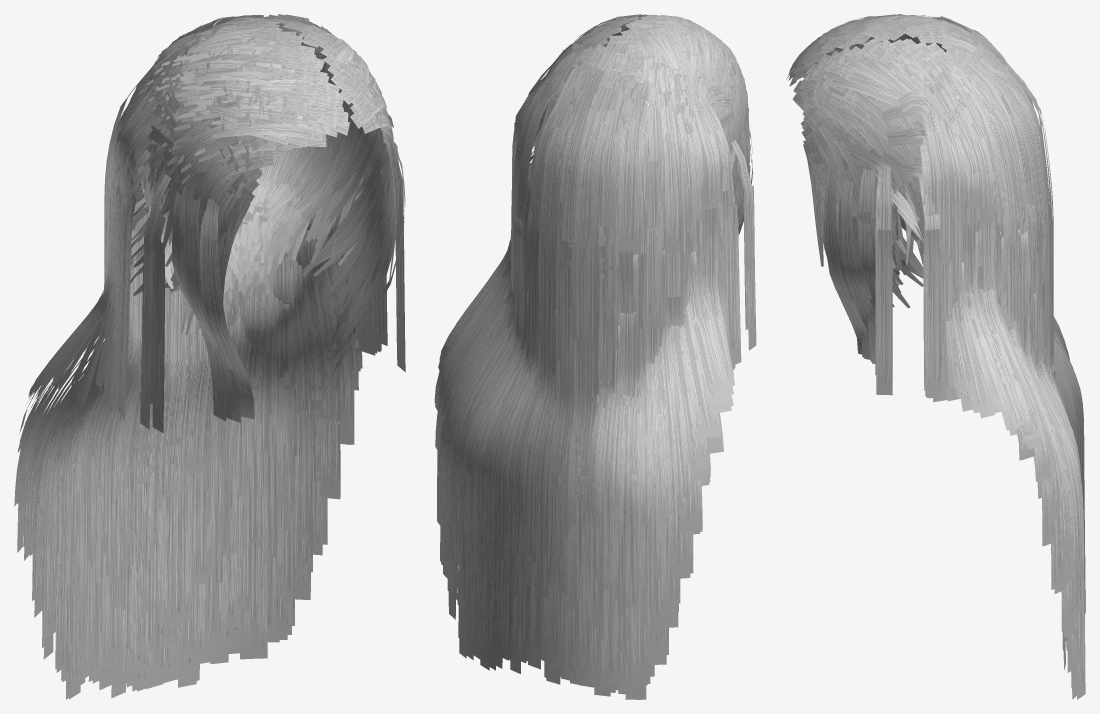
File: NC_Head_Female_Cards6.fbx
The picture shows the model from 3 angles, left to right: view 1: azimuth 30°, elevation 25°; view 2: azimuth 150°, elevation 25°; view 3: azimuth 270°, elevation 25°; orthographic projection. The views are drawn at different scales.
Parts seen in each view (by area): view 1: Hair_LongStraight_CapCards, Hair_Bob_Cards, Hair_LongStraight_Cards_3, Hair_LongStraight_CapCards_2, Hair_LongStraight_Cards_4; view 2: Hair_LongStraight_Cards_3, Hair_LongStraight_CapCards_2, Hair_LongStraight_CapCards, Hair_LongStraight_Cards_4, Hair_Bob_Cards; view 3: Hair_LongStraight_Cards_3, Hair_Bob_Cards, Hair_LongStraight_CapCards_2, Hair_LongStraight_CapCards, Hair_LongStraight_Cards_4.
Part boxes in pixels (x1,y1,x2,y2): Hair_LongStraight_CapCards: (14, 132, 398, 699); Hair_Bob_Cards: (138, 16, 396, 335); Hair_LongStraight_Cards_3: (15, 14, 405, 699); Hair_LongStraight_CapCards_2: (15, 177, 405, 689); Hair_LongStraight_Cards_4: (18, 14, 361, 641); Hair_LongStraight_Cards_3: (434, 44, 756, 699); Hair_LongStraight_CapCards_2: (437, 156, 754, 694); Hair_LongStraight_CapCards: (437, 132, 752, 699); Hair_LongStraight_Cards_4: (434, 43, 728, 673); Hair_Bob_Cards: (533, 14, 749, 206); Hair_LongStraight_Cards_3: (824, 16, 1085, 672); Hair_Bob_Cards: (786, 14, 1023, 292); Hair_LongStraight_CapCards_2: (852, 165, 1085, 699); Hair_LongStraight_CapCards: (814, 169, 1085, 699); Hair_LongStraight_Cards_4: (910, 15, 1083, 614).
Bounding box in the file's own units: 0.9748 × 1.93 × 0.8281.
1 material, 1 textured.
